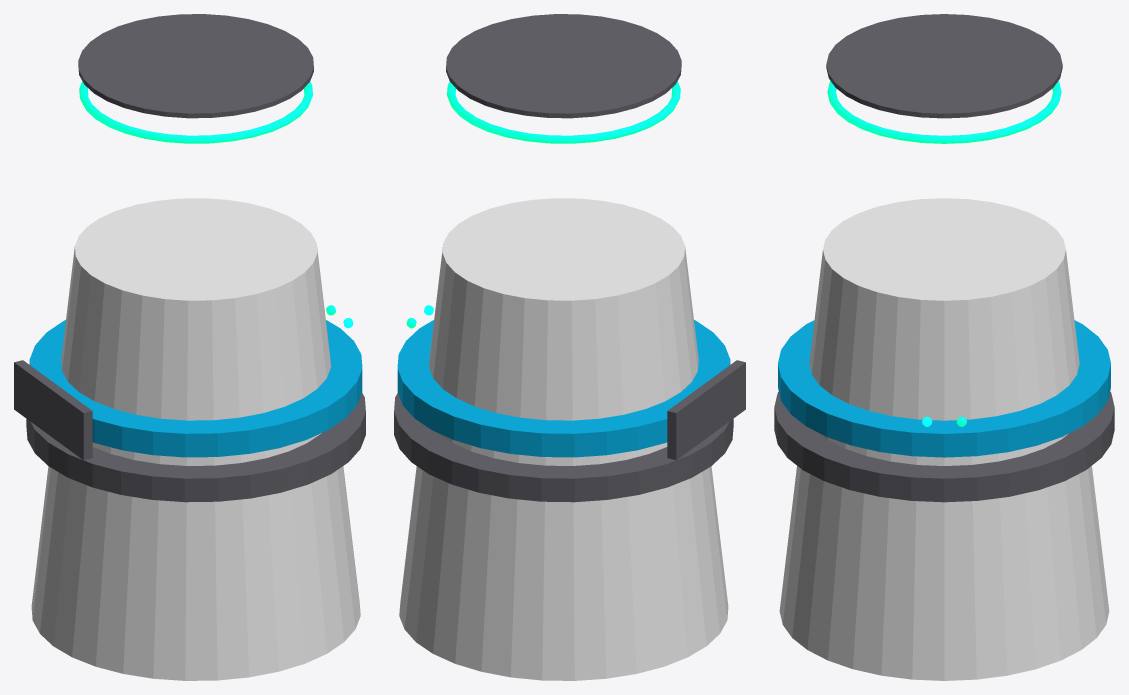
The model's file is att_bgw320.glb.
3 views of the same model, side by side, from view 1: azimuth 30°, elevation 25°; view 2: azimuth 150°, elevation 25°; view 3: azimuth 270°, elevation 25° (orthographic).
Visible parts, largest first — view 1: BGW320_Body, BGW320_Top, BGW320_Band, BGW320_Base, BGW320_PortArea, BGW320_LED_Ring; view 2: BGW320_Body, BGW320_Top, BGW320_Band, BGW320_Base, BGW320_PortArea, BGW320_LED_Ring; view 3: BGW320_Body, BGW320_Top, BGW320_Band, BGW320_Base, BGW320_LED_Ring.
Part boxes in pixels (box(x1,y1,x2,y2)): BGW320_Body: box(31, 198, 360, 680); BGW320_Top: box(78, 14, 313, 118); BGW320_Band: box(29, 320, 362, 457); BGW320_Base: box(26, 393, 365, 502); BGW320_PortArea: box(14, 360, 92, 460); BGW320_LED_Ring: box(79, 81, 312, 143); BGW320_Body: box(399, 198, 728, 680); BGW320_Top: box(446, 14, 681, 118); BGW320_Band: box(397, 320, 730, 457); BGW320_Base: box(394, 393, 733, 502); BGW320_PortArea: box(667, 360, 745, 460); BGW320_LED_Ring: box(447, 81, 680, 143); BGW320_Body: box(779, 198, 1109, 680); BGW320_Top: box(826, 14, 1062, 118); BGW320_Band: box(778, 320, 1110, 457); BGW320_Base: box(774, 391, 1114, 502); BGW320_LED_Ring: box(827, 81, 1061, 143).
Size of the model in its own units: 19.65 by 34.8 by 19.6.
